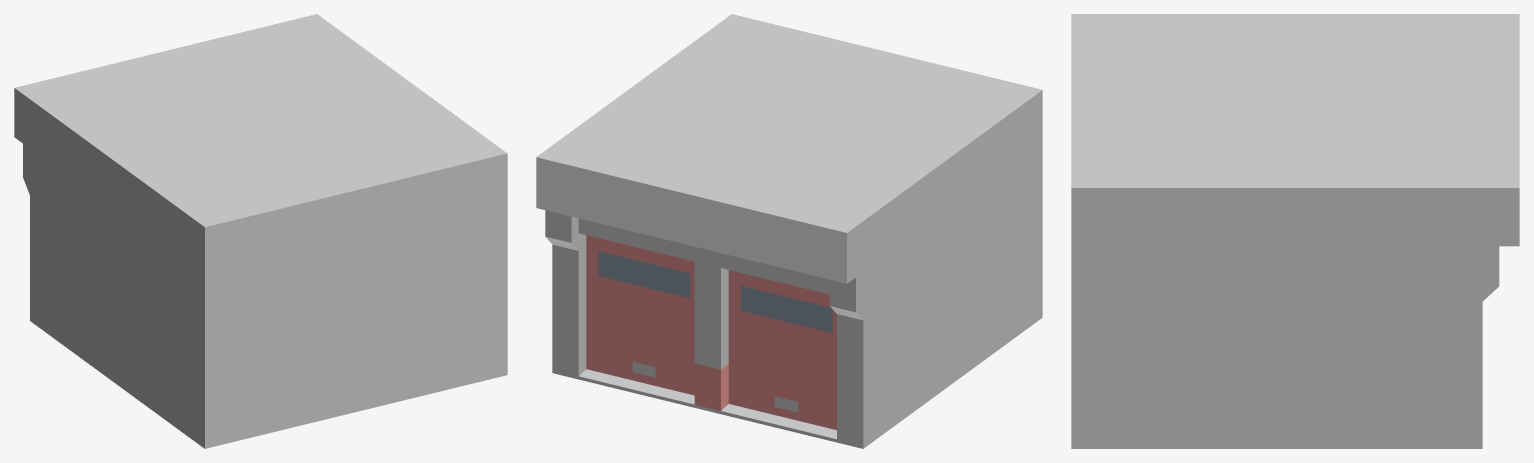
3 renders of one model, left to right at view 1: azimuth 30°, elevation 25°; view 2: azimuth 150°, elevation 25°; view 3: azimuth 270°, elevation 25°, orthographic. The views are drawn at different scales.
Visible parts, largest first — view 1: pitsGarageClosed; view 2: pitsGarageClosed; view 3: pitsGarageClosed.
Boxes of the visible parts, left/top/right/bottom form: pitsGarageClosed: left=14, top=14, right=507, bottom=448; pitsGarageClosed: left=536, top=14, right=1042, bottom=448; pitsGarageClosed: left=1071, top=14, right=1519, bottom=448.
Size of the model in its own units: 10 by 7 by 10.9.
